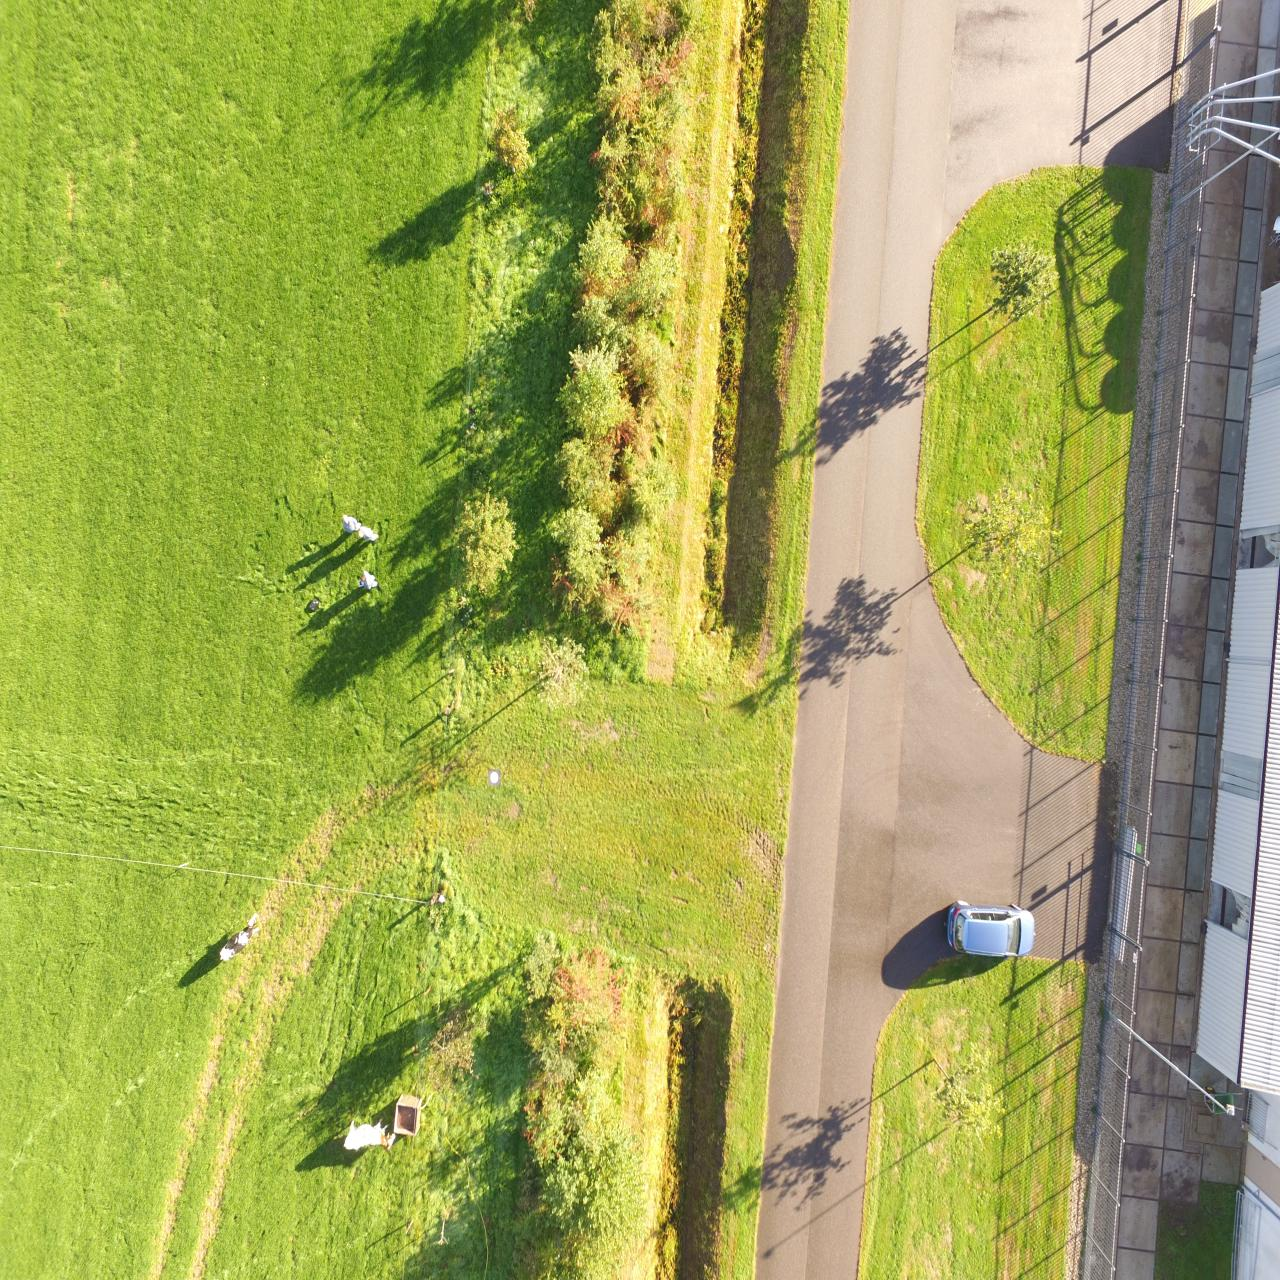cow: (217, 912, 259, 965), (342, 1117, 399, 1151)
